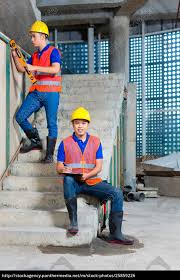helmet: (69, 108, 93, 122), (31, 19, 50, 36)
vest: (65, 139, 104, 180), (30, 50, 66, 90)
